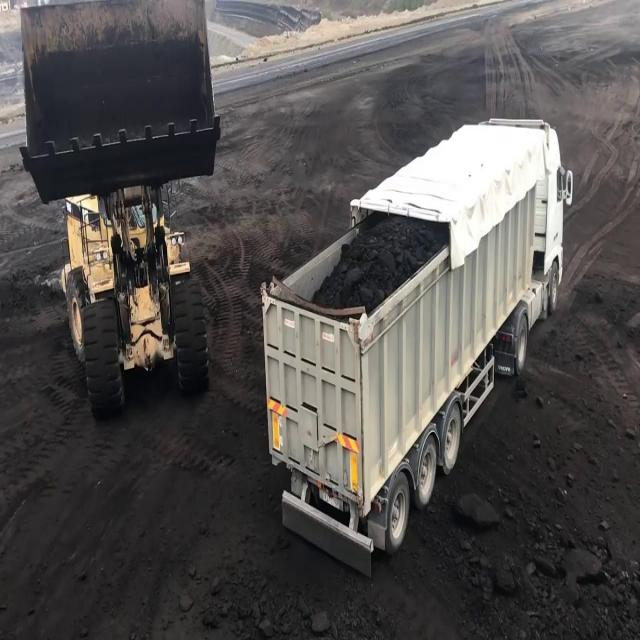Dump Truck: (258, 113, 574, 581)
Loader: (19, 2, 223, 424)
